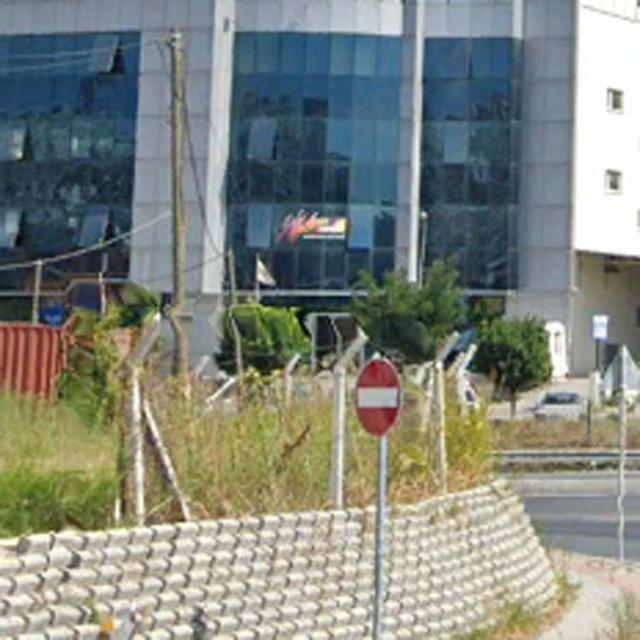girisyok: (353, 358, 401, 434)
